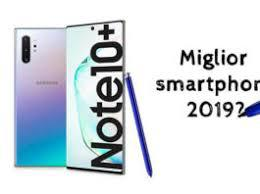Smartphone: (63, 18, 127, 172), (15, 27, 70, 169)
